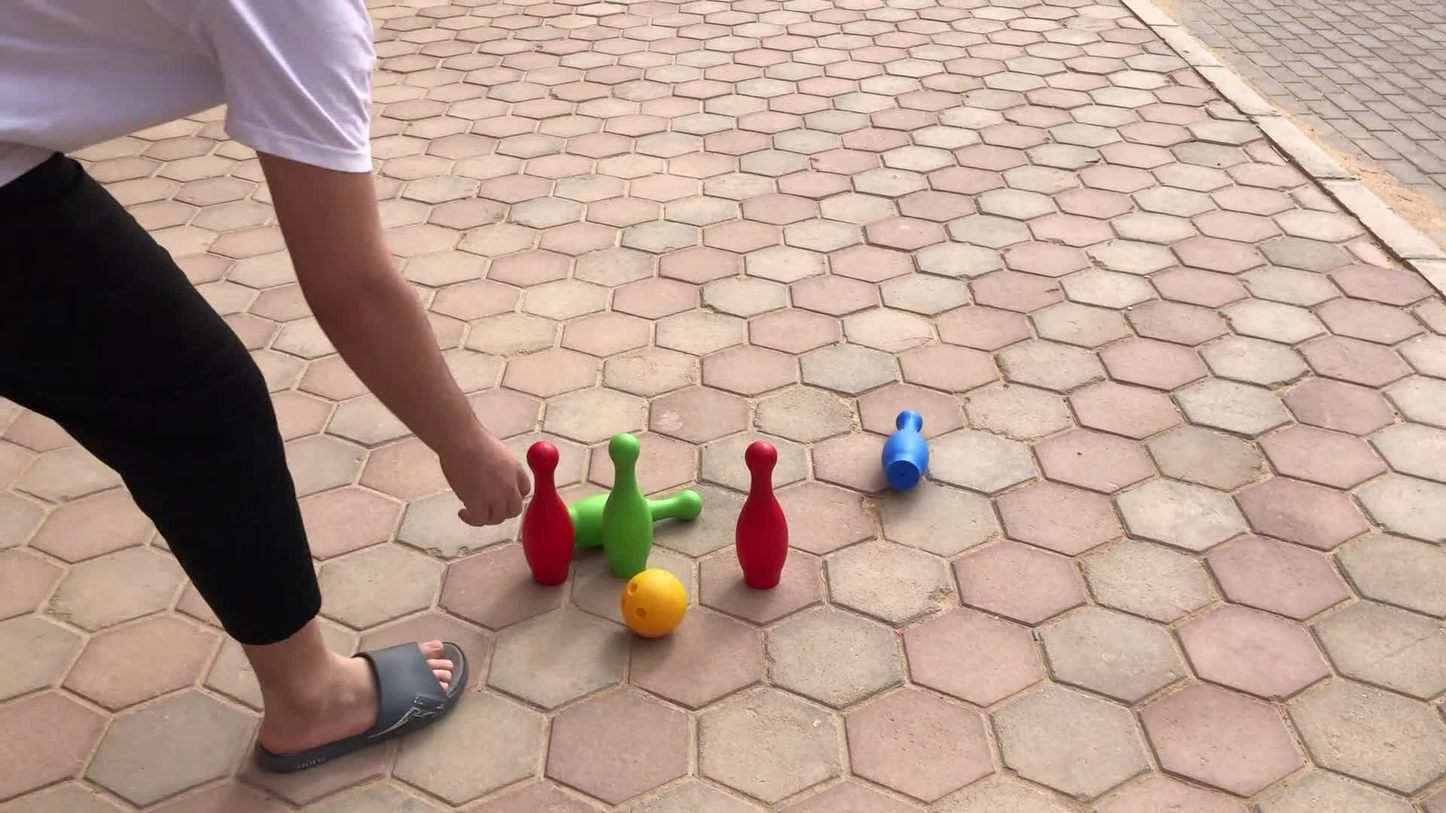pin: (521, 440, 575, 586), (737, 442, 789, 589), (602, 435, 654, 579), (881, 412, 929, 492), (569, 492, 609, 550)
